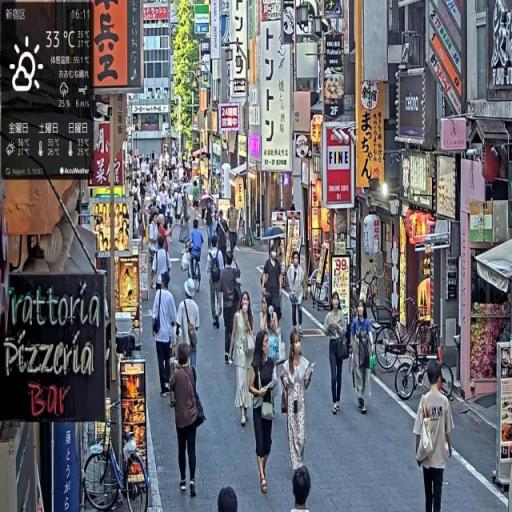person: (415, 360, 456, 512), (169, 340, 207, 501), (280, 327, 315, 482), (248, 326, 279, 499), (228, 292, 256, 431), (152, 270, 180, 405), (324, 287, 351, 419), (351, 298, 377, 416), (219, 251, 243, 368), (176, 279, 200, 385), (260, 243, 284, 334), (287, 249, 308, 336), (207, 236, 226, 331), (189, 219, 205, 290), (227, 203, 241, 260)
